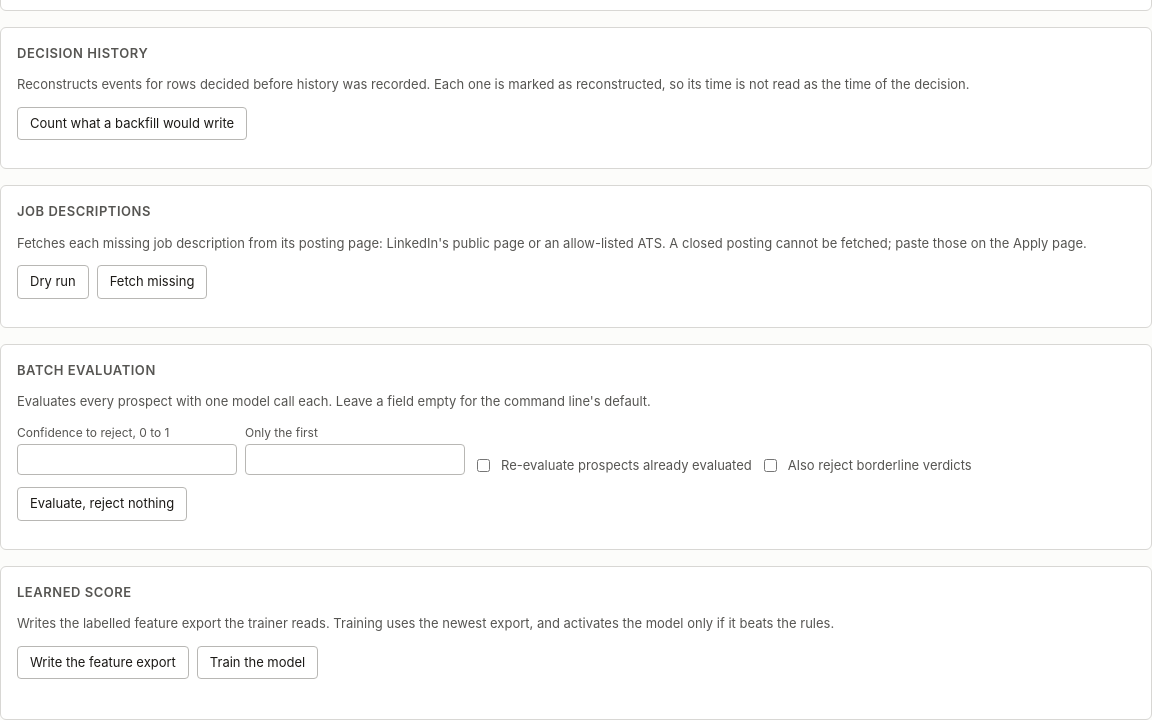
Test: text that is not a number is refused before an evaluation is asked for
(page scrolled)
Type "high" into the field labelled "Confidence to reject, 0 to 1" at (127, 460), box left=17, top=444, right=237, bottom=475
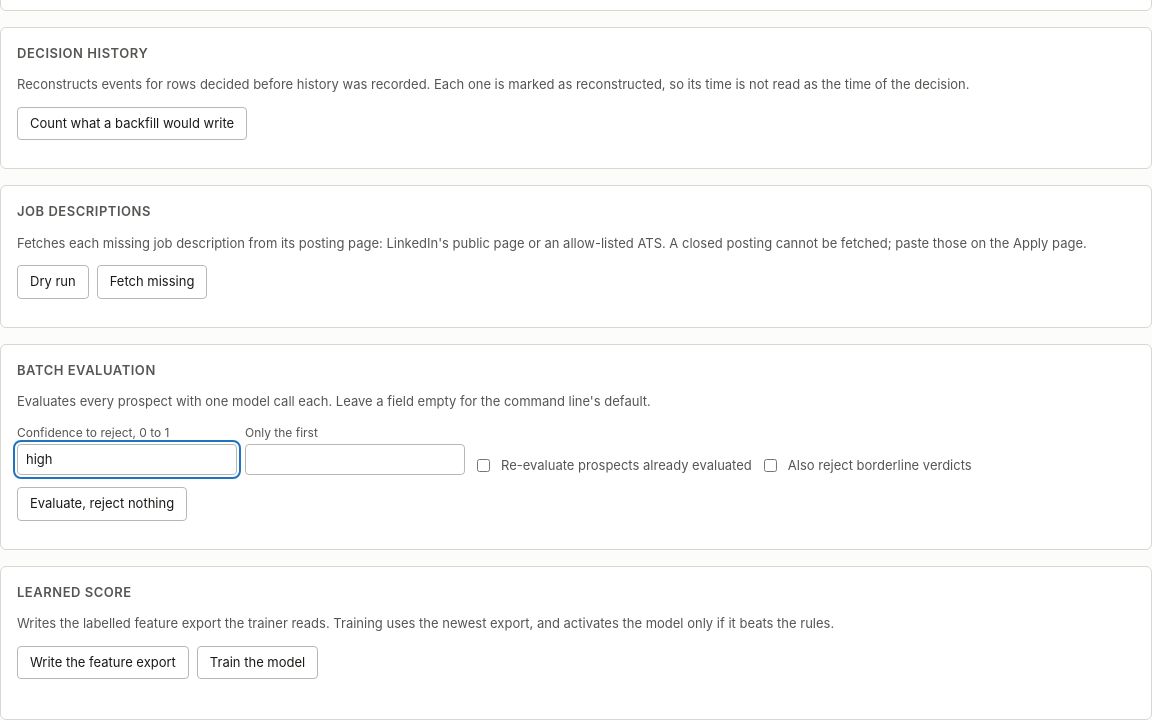
Click the button "Evaluate, reject nothing" at (102, 504), box left=17, top=487, right=187, bottom=521
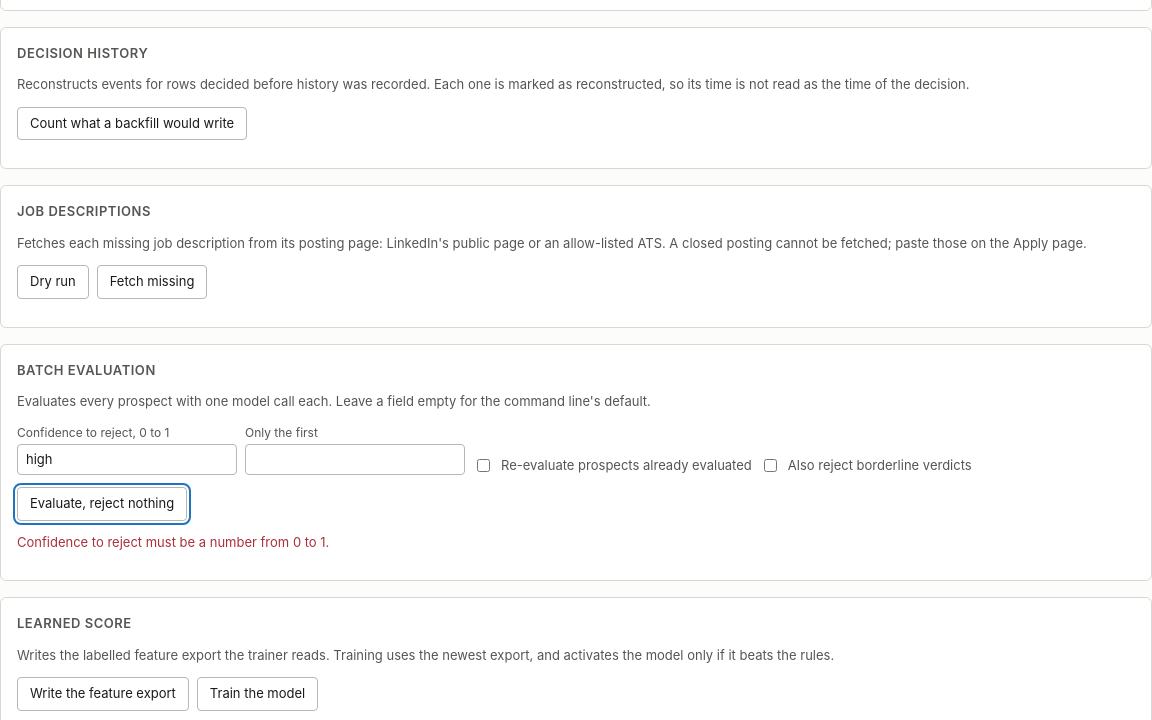
Expected: the text "Confidence to reject must be a number from 0 to 1." is shown, left=17, top=534, right=329, bottom=550
